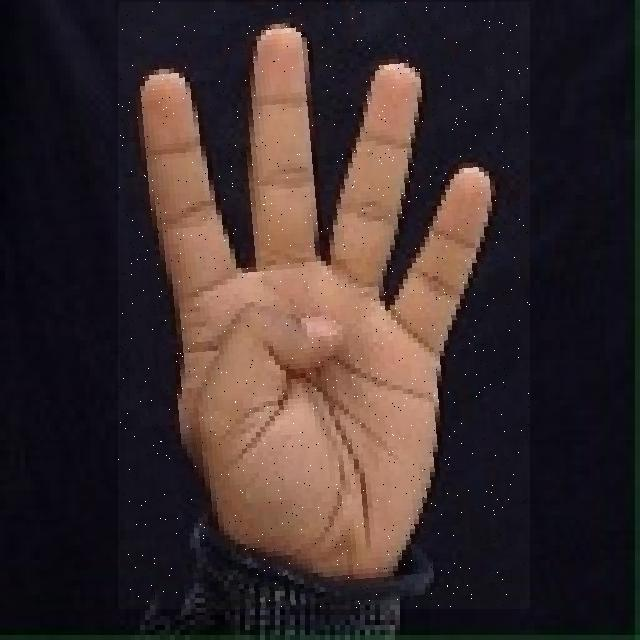Thanks: (118, 2, 530, 609)
